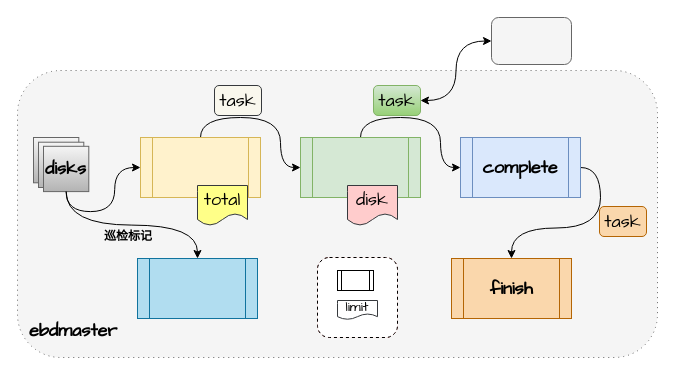
Some shapes in this 675 by 375 pixel diagram are drawn without their labels. The shapes that lost their labels are listed below. From the top down, each one's centre as x and y in pixels, then its label:
point (531, 40): worker
point (200, 167): prepare
point (360, 167): allocate
point (197, 288): check
point (355, 280): pool
